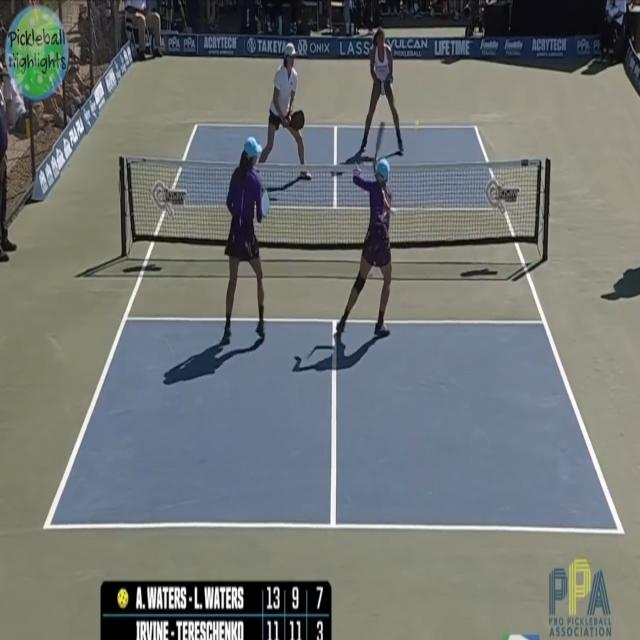Court: (48, 128, 623, 530)
